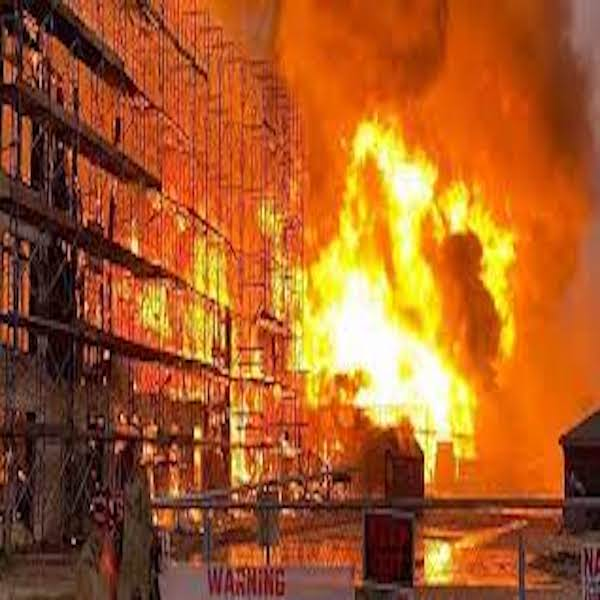fire: (308, 90, 578, 444), (155, 247, 242, 364), (229, 381, 266, 492)
